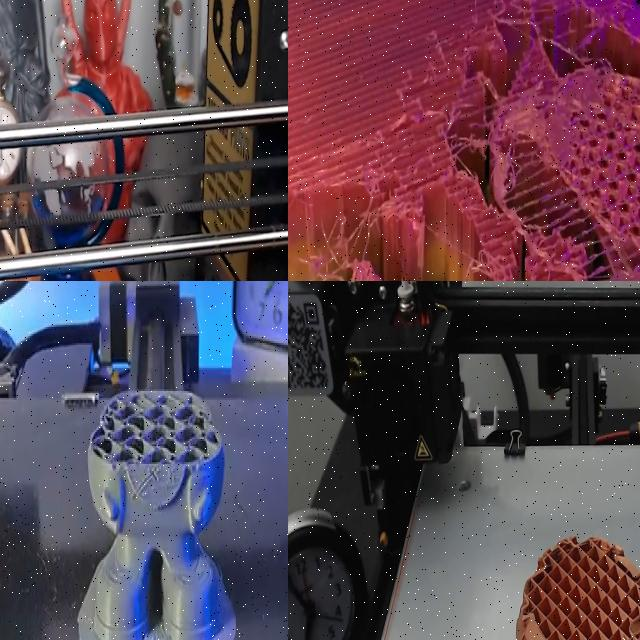spaghetti: (288, 210, 382, 281), (461, 227, 523, 281), (447, 120, 504, 176), (476, 57, 506, 113)
